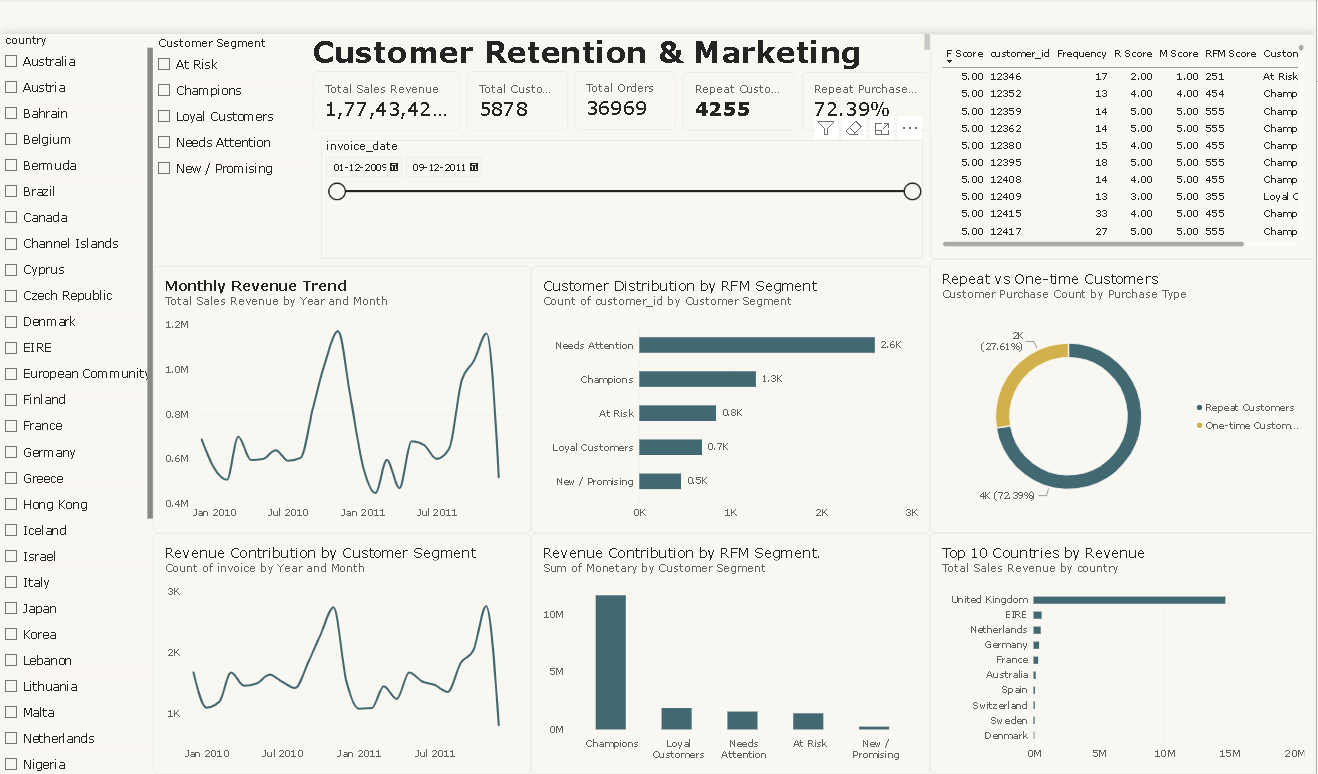

The page's visual inventory and layout, read from the dashboard file:
{"tool":"powerbi","page":{"name":"Page 1","canvas":[1920,1080],"ordinal":0},"visuals":[{"type":"cardVisual","fields":{"Data":["Online_Retail_II_MySQL_Ready.Total Sales Revenue"]},"box":[456.2,54.5,214.5,89],"z":0},{"type":"cardVisual","fields":{"Data":["Online_Retail_II_MySQL_Ready.Total Customers"]},"box":[681,54.5,147.4,89],"z":1000},{"type":"cardVisual","fields":{"Data":["Online_Retail_II_MySQL_Ready.Total Orders"]},"box":[837.9,54.5,148.8,86.1],"z":2000},{"type":"cardVisual","fields":{"Data":["Online_Retail_II_MySQL_Ready.Repeat Customers"]},"box":[996.2,55.9,164.9,86.1],"z":3000},{"type":"cardVisual","fields":{"Data":["Online_Retail_II_MySQL_Ready.Repeat Purchase Rate"]},"box":[1170.4,55.9,186.2,86.5],"z":4000},{"type":"lineChart","title":"Monthly Revenue Trend","fields":{"Category":["Online_Retail_II_MySQL_Ready.invoice_date.Variation.Date Hierarchy.Year","Online_Retail_II_MySQL_Ready.invoice_date.Variation.Date Hierarchy.Month"],"Y":["Online_Retail_II_MySQL_Ready.Total Sales Revenue"]},"box":[223.2,338.5,551.5,389.5],"z":5000},{"type":"clusteredBarChart","title":"Top 10 Countries by Revenue","fields":{"Category":["Online_Retail_II_MySQL_Ready.country"],"Y":["Online_Retail_II_MySQL_Ready.Total Sales Revenue"]},"box":[1356.8,728,563.2,351.6],"z":6000},{"type":"tableEx","fields":{"Values":["RFM Analysis.F Score","RFM Analysis.customer_id","RFM Analysis.Frequency","RFM Analysis.R Score","RFM Analysis.M Score","RFM Analysis.RFM Score","RFM Analysis.Customer Segment"]},"box":[1356.8,0,563.2,328.3],"z":7000},{"type":"clusteredBarChart","title":"Customer Distribution by RFM Segment","fields":{"Category":["RFM Analysis.Customer Segment"],"Y":["CountNonNull(RFM Analysis.customer_id)"]},"box":[774.7,338.5,582.1,389.5],"z":8000},{"type":"donutChart","title":"Repeat vs One-time Customers","fields":{"Category":["Customer Purchase Type.Purchase Type"],"Y":["Online_Retail_II_MySQL_Ready.Customer Purchase Count"]},"box":[1356.8,328.3,563.2,399.8],"z":9000},{"type":"lineChart","title":"Revenue Contribution by Customer Segment","fields":{"Category":["Online_Retail_II_MySQL_Ready.invoice_date.Variation.Date Hierarchy.Year","Online_Retail_II_MySQL_Ready.invoice_date.Variation.Date Hierarchy.Month"],"Y":["Count(Online_Retail_II_MySQL_Ready.invoice)"]},"box":[223.2,728,551.5,351.6],"z":10000},{"type":"clusteredColumnChart","title":"Revenue Contribution by RFM Segment.","fields":{"Category":["RFM Analysis.Customer Segment"],"Y":["Sum(RFM Analysis.Monetary)"]},"box":[774.7,728,582.1,351.6],"z":11000},{"type":"slicer","fields":{"Values":["Online_Retail_II_MySQL_Ready.country"]},"box":[0,0,223.2,1079.6],"z":12000},{"type":"slicer","fields":{"Values":["Online_Retail_II_MySQL_Ready.invoice_date"]},"box":[468.2,154.3,879.2,174.2],"z":13000},{"type":"slicer","fields":{"Values":["RFM Analysis.Customer Segment"]},"box":[223.4,4,232.8,324.5],"z":14000},{"type":"textbox","box":[456.2,0,900.4,55.9],"z":15000}]}

Visuals, with their boxes on the page's 1920x1080 design canvas (x1, y1, x2, y2). These are canvas units, not pixel positions in the 1318x774 screenshot, which may show the page scaled, cropped or inside an application window:
cardVisual - Online_Retail_II_MySQL_Ready.Total Sales Revenue: BBox(456, 54, 671, 144)
cardVisual - Online_Retail_II_MySQL_Ready.Total Customers: BBox(681, 54, 828, 144)
cardVisual - Online_Retail_II_MySQL_Ready.Total Orders: BBox(838, 54, 987, 141)
cardVisual - Online_Retail_II_MySQL_Ready.Repeat Customers: BBox(996, 56, 1161, 142)
cardVisual - Online_Retail_II_MySQL_Ready.Repeat Purchase Rate: BBox(1170, 56, 1357, 142)
"Monthly Revenue Trend" lineChart: BBox(223, 338, 775, 728)
"Top 10 Countries by Revenue" clusteredBarChart: BBox(1357, 728, 1920, 1080)
tableEx - RFM Analysis.F Score x RFM Analysis.customer_id: BBox(1357, 0, 1920, 328)
"Customer Distribution by RFM Segment" clusteredBarChart: BBox(775, 338, 1357, 728)
"Repeat vs One-time Customers" donutChart: BBox(1357, 328, 1920, 728)
"Revenue Contribution by Customer Segment" lineChart: BBox(223, 728, 775, 1080)
"Revenue Contribution by RFM Segment." clusteredColumnChart: BBox(775, 728, 1357, 1080)
slicer - Online_Retail_II_MySQL_Ready.country: BBox(0, 0, 223, 1080)
slicer - Online_Retail_II_MySQL_Ready.invoice_date: BBox(468, 154, 1347, 328)
slicer - RFM Analysis.Customer Segment: BBox(223, 4, 456, 328)
textbox: BBox(456, 0, 1357, 56)
